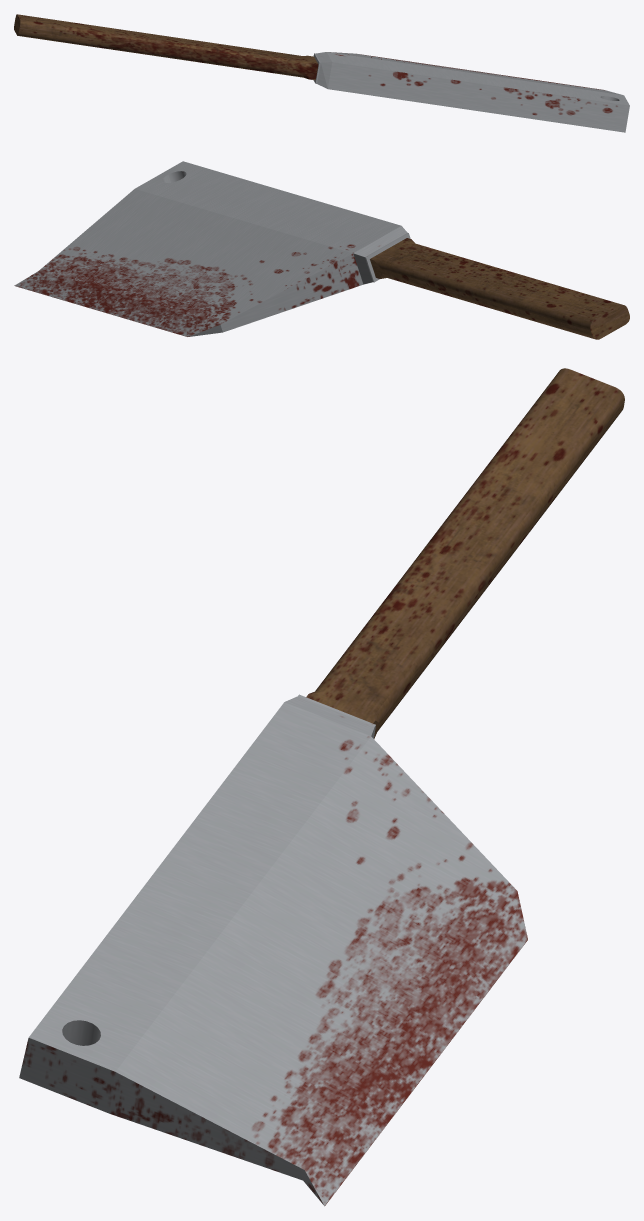
File: knife.fbx
3 renders of one model, top to bottom at view 1: azimuth 30°, elevation 25°; view 2: azimuth 150°, elevation 25°; view 3: azimuth 270°, elevation 25°, orthographic. The views are drawn at different scales.
Visible parts, largest first — view 1: Object_71; view 2: Object_71; view 3: Object_71.
Boxes of the visible parts, left/top/right/bottom form: Object_71: left=14, top=14, right=629, bottom=132; Object_71: left=14, top=161, right=629, bottom=339; Object_71: left=19, top=368, right=624, bottom=1206.
Size of the model in its own units: 57.37 by 16.27 by 28.05.
Materials: 1 (1 with a texture image).
